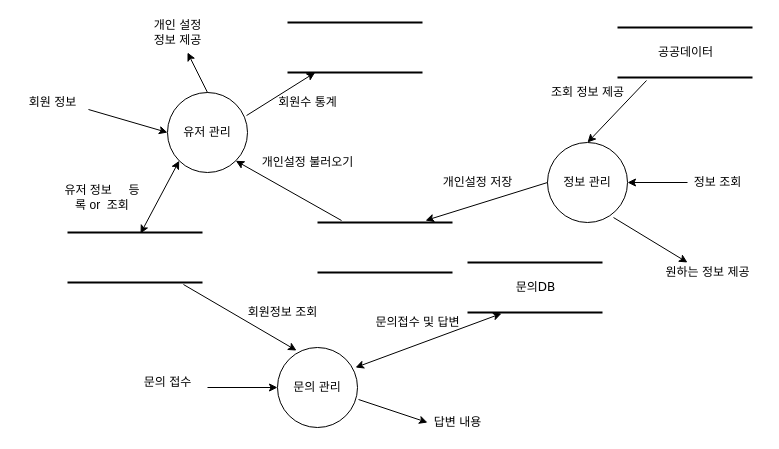
Image size: 779x449. Some labels were removed from this diagram. The shapes that lost their labels are listed below. From the top down, each one's centre as x and y in pixels, then its label:
point 354,47: 통계DB
point 134,257: 유저DB
point 384,247: 개인설정
